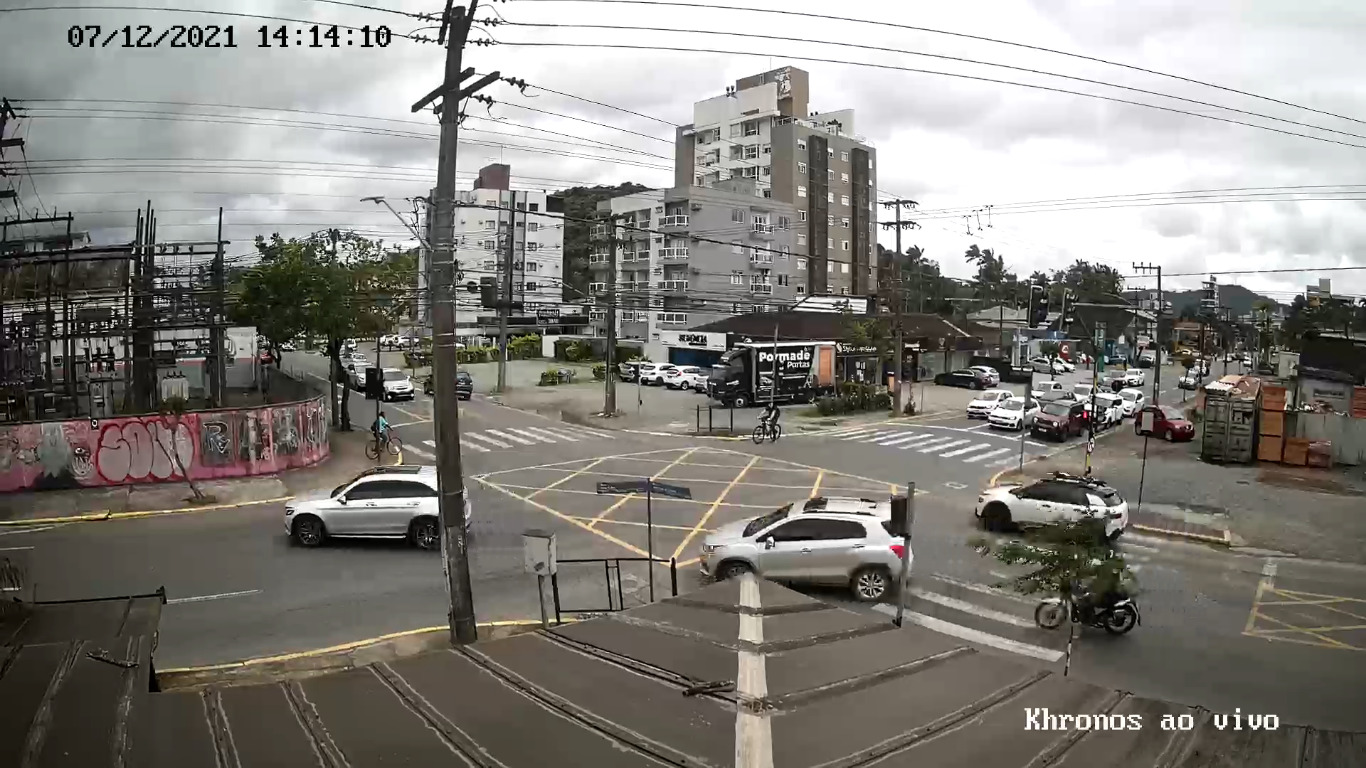car: (699, 496, 914, 603), (283, 463, 471, 553), (973, 474, 1128, 547)
